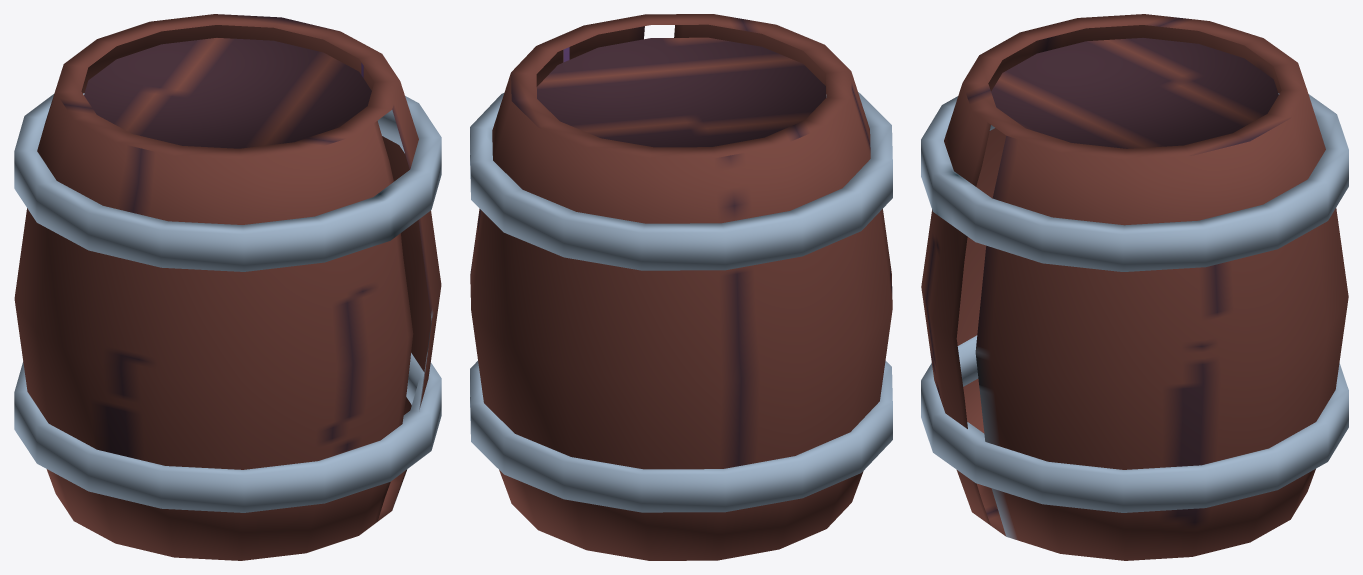
File: Barril.fbx
The picture shows the model from 3 angles, left to right: view 1: azimuth 30°, elevation 25°; view 2: azimuth 150°, elevation 25°; view 3: azimuth 270°, elevation 25°; orthographic projection.
Parts seen in each view (by area): view 1: Barril; view 2: Barril; view 3: Barril.
Part boxes in pixels (<box>): Barril: <box>14,14,441,560</box>; Barril: <box>470,14,892,560</box>; Barril: <box>921,14,1348,560</box>.
Bounding box in the file's own units: 145 × 145 × 150.
